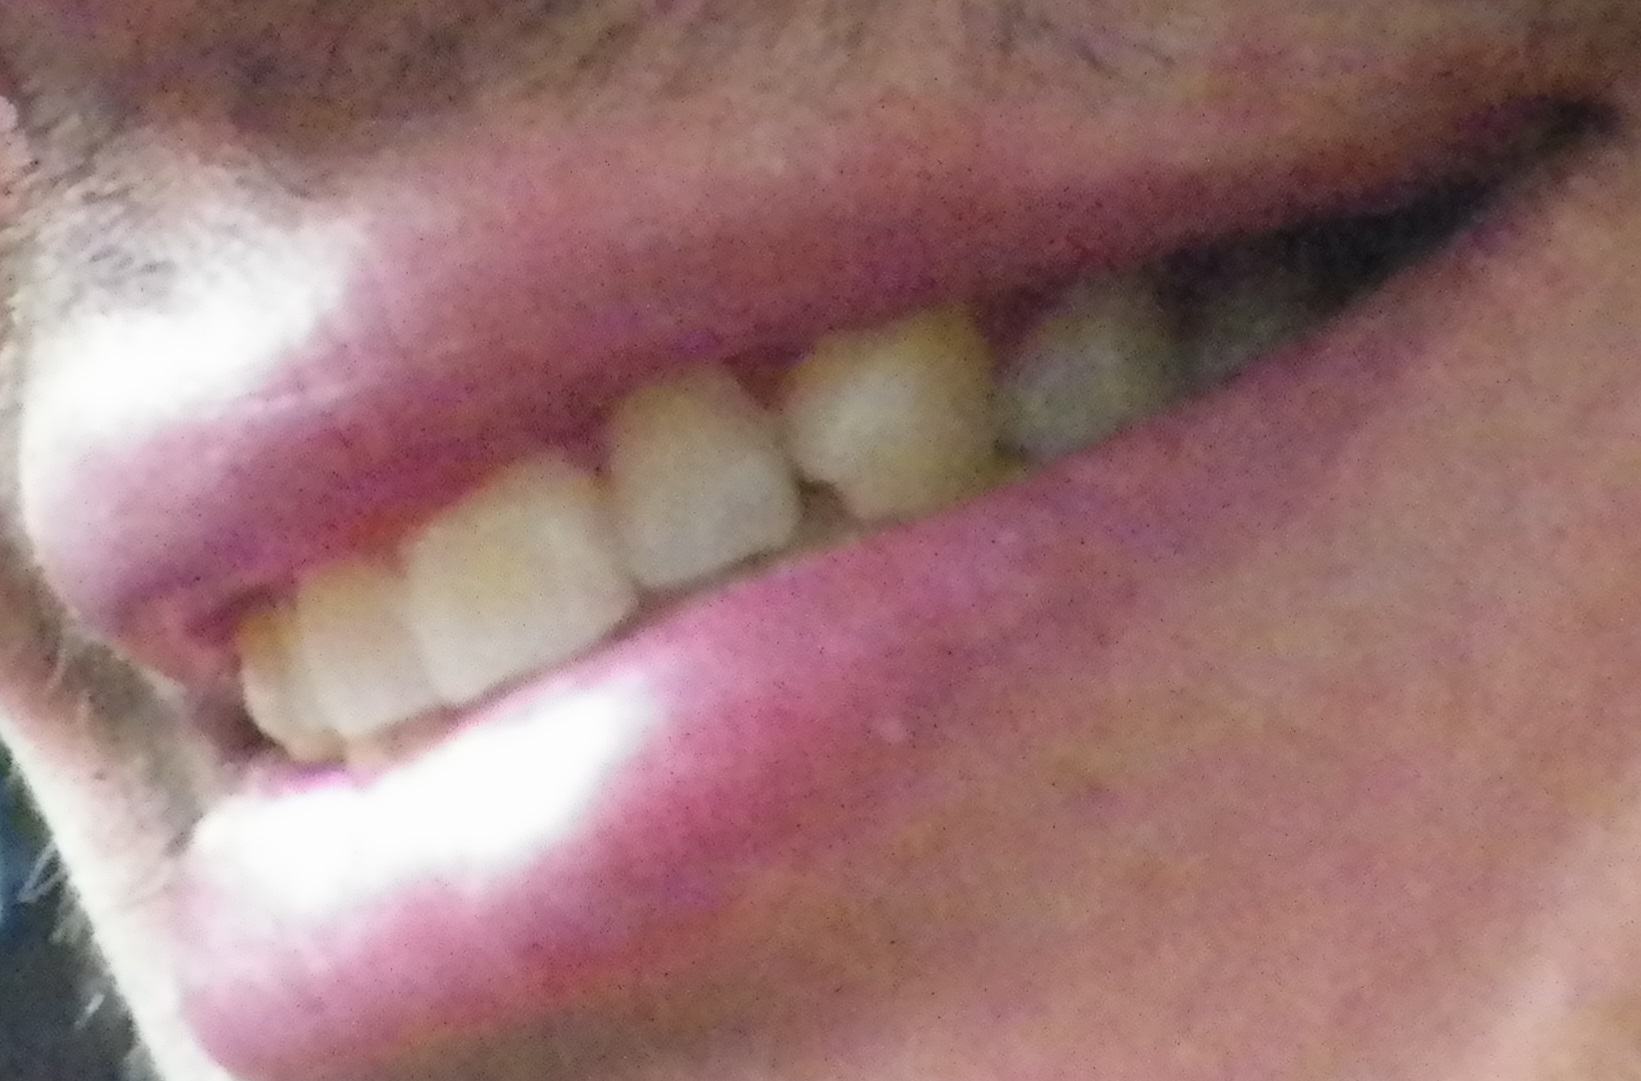boca: (230, 224, 1331, 759)
